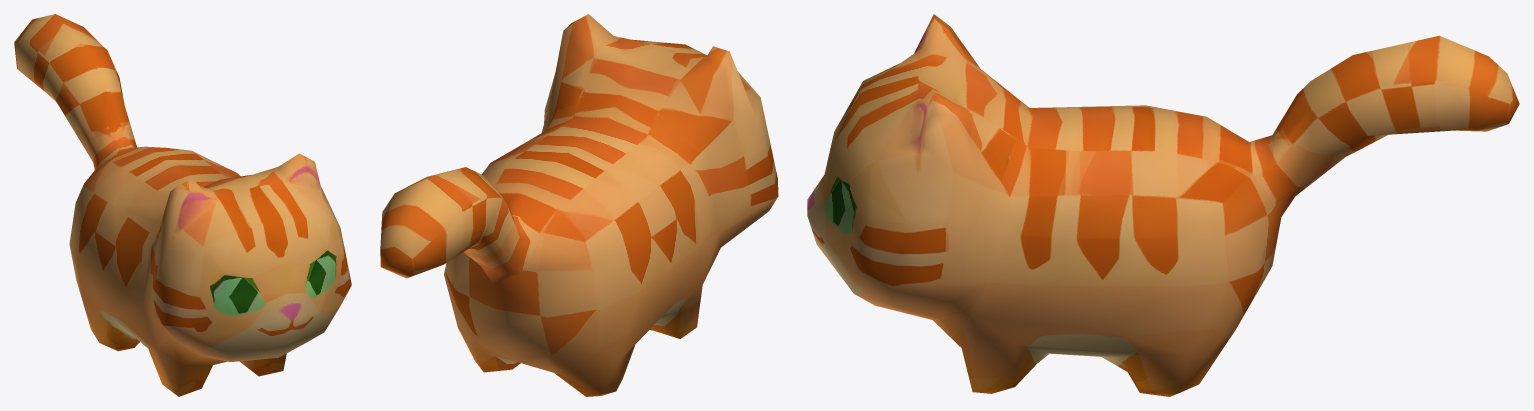
File: tabby-cat-game-380.glb
3 views of the same model, side by side, from view 1: azimuth 30°, elevation 25°; view 2: azimuth 150°, elevation 25°; view 3: azimuth 270°, elevation 25° (orthographic). The views are drawn at different scales.
Visible parts, largest first — view 1: material; view 2: material; view 3: material.
Part boxes in pixels (left/top/right/bottom): material: left=14, top=14, right=351, bottom=396; material: left=380, top=14, right=778, bottom=396; material: left=807, top=14, right=1519, bottom=396.
Bounding box in the file's own units: 0.4532 × 0.5802 × 1.12.
Materials: 1 (1 with a texture image).
